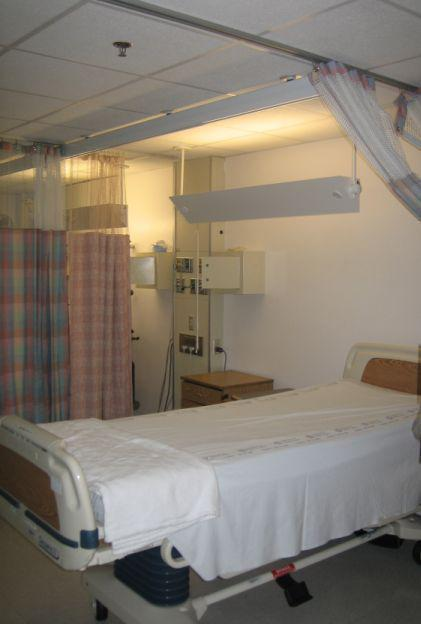Cama: (11, 376, 409, 583)
